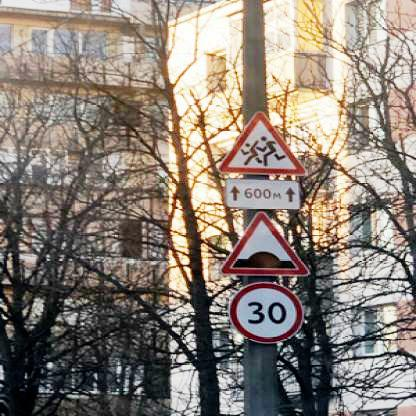Speed Limit -30-: (227, 278, 307, 345)
